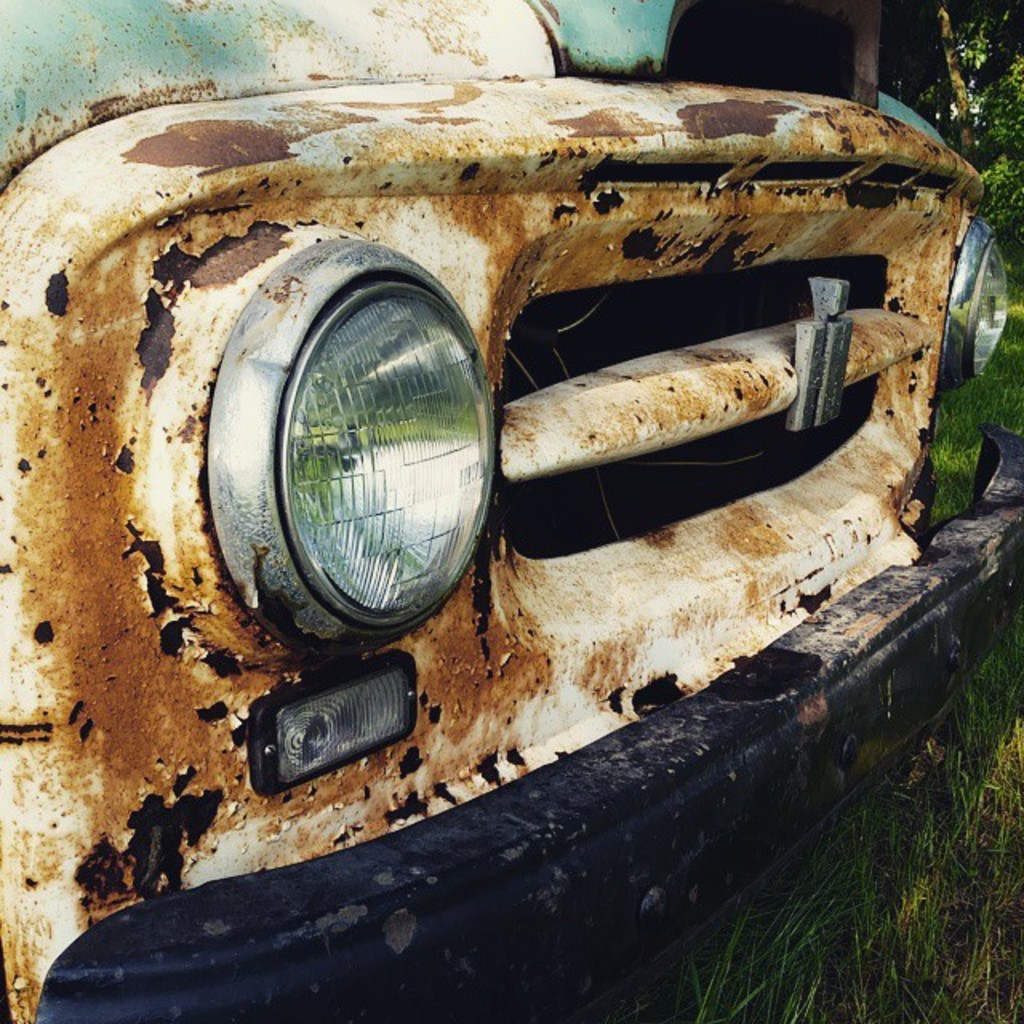Tree: (836, 0, 1023, 251)
